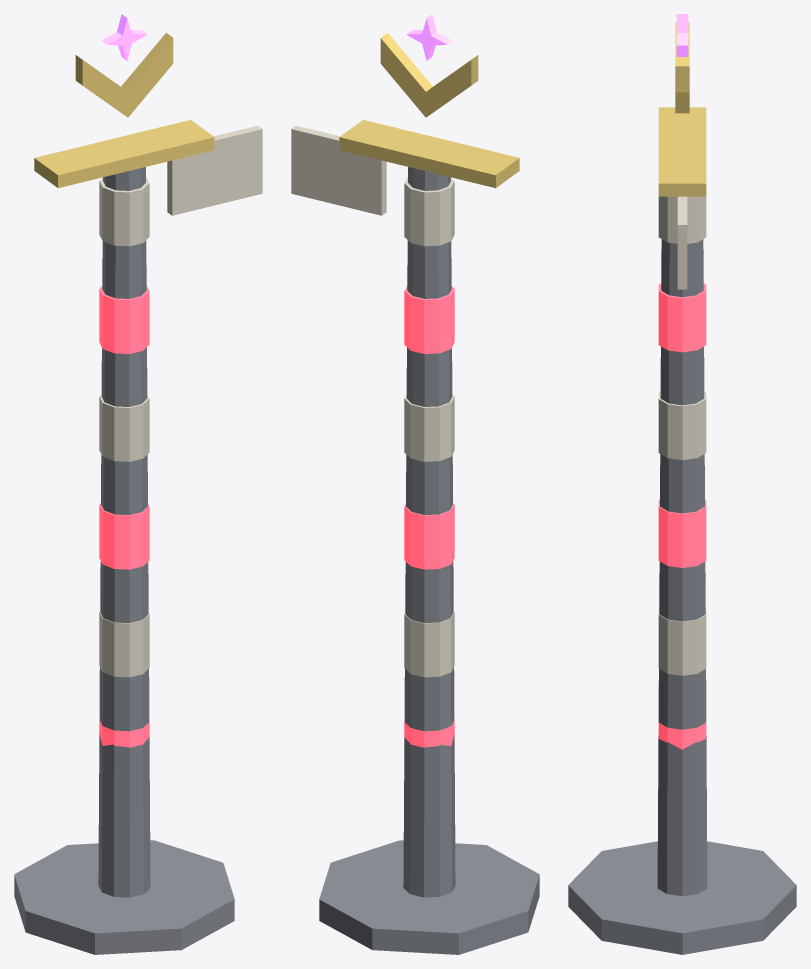
Rendered from pickups-and-collectibles-player-height-marker-769385f5__19984.glb.
3 views of the same model, side by side, from view 1: azimuth 30°, elevation 25°; view 2: azimuth 150°, elevation 25°; view 3: azimuth 270°, elevation 25° (orthographic).
Parts seen in each view (by area): view 1: base/iron, base/bone, base/ruby, base/gold, marker/gold, marker/arcane; view 2: base/iron, base/bone, base/ruby, base/gold, marker/gold, marker/arcane; view 3: base/iron, base/bone, base/ruby, base/gold, marker/gold, marker/arcane.
Part boxes in pixels (left/top/right/bottom): base/iron: left=14, top=167, right=234, bottom=954; base/bone: left=99, top=125, right=262, bottom=677; base/ruby: left=99, top=286, right=149, bottom=747; base/gold: left=34, top=120, right=214, bottom=188; marker/gold: left=75, top=32, right=173, bottom=117; marker/arcane: left=101, top=14, right=147, bottom=60; base/iron: left=319, top=167, right=539, bottom=954; base/bone: left=291, top=125, right=454, bottom=677; base/ruby: left=404, top=286, right=454, bottom=747; base/gold: left=339, top=120, right=519, bottom=188; marker/gold: left=380, top=32, right=478, bottom=117; marker/arcane: left=406, top=14, right=452, bottom=60; base/iron: left=568, top=239, right=796, bottom=954; base/bone: left=658, top=196, right=706, bottom=675; base/ruby: left=658, top=283, right=706, bottom=749; base/gold: left=658, top=107, right=706, bottom=196; marker/gold: left=675, top=22, right=689, bottom=113; marker/arcane: left=676, top=14, right=688, bottom=56.
Bounding box in the file's own units: 0.57 × 2.07 × 0.4801.
